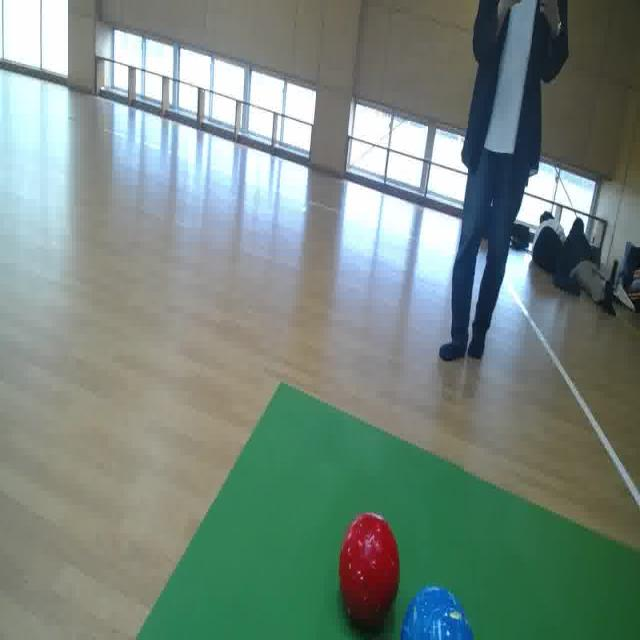blue_ball: (400, 585, 475, 640)
red_ball: (340, 513, 400, 626)
